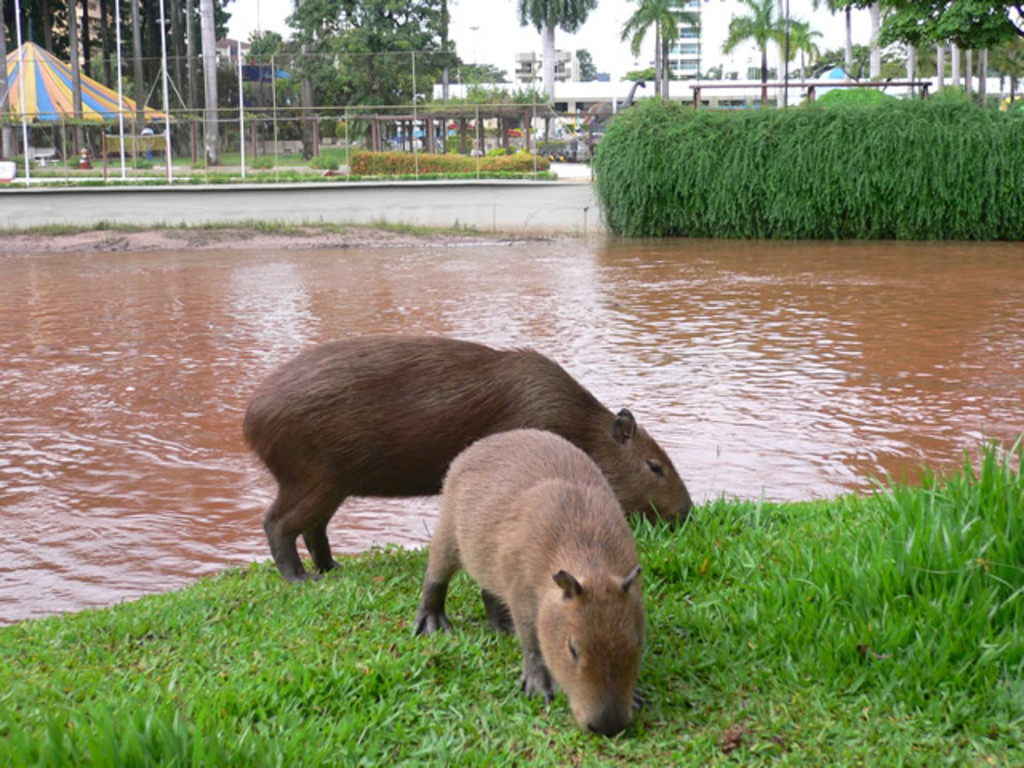Animal: (233, 331, 697, 581), (418, 432, 643, 738)
